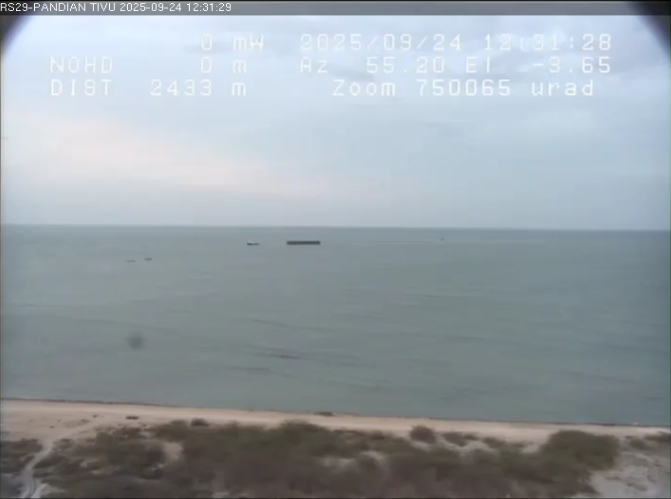BARGE: (278, 232, 335, 259)
OFFSHORE_SUPPLY_VESSEL: (241, 229, 269, 261)
TOWING: (223, 210, 388, 296)
